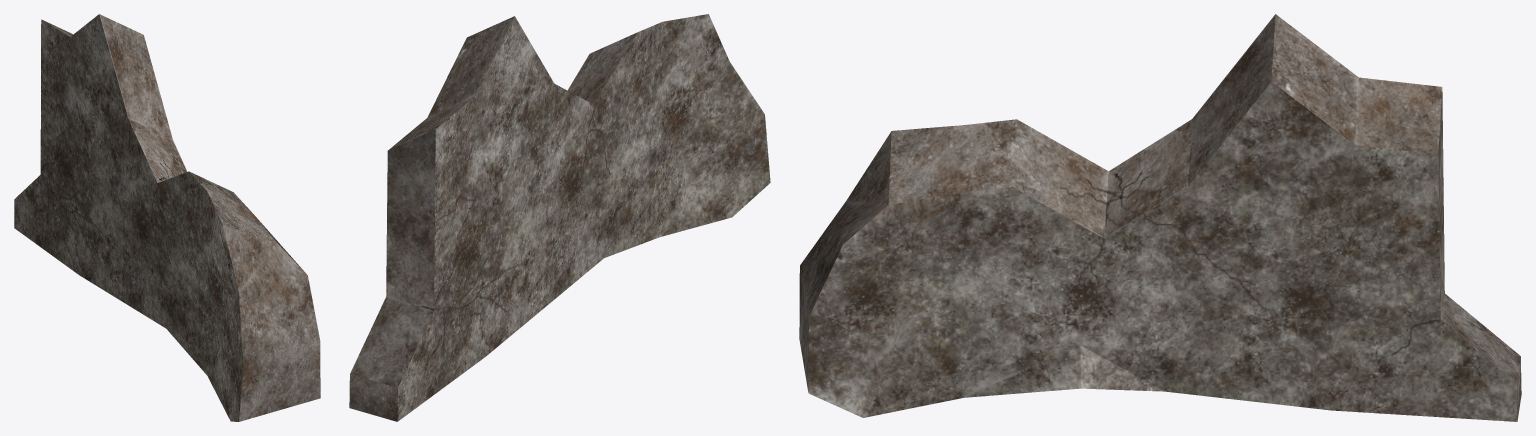
File: RuinaEdificio3.obj
3 views of the same model, side by side, from view 1: azimuth 30°, elevation 25°; view 2: azimuth 150°, elevation 25°; view 3: azimuth 270°, elevation 25° (orthographic). The views are drawn at different scales.
Visible parts, largest first — view 1: Object022; view 2: Object022; view 3: Object022.
Part boxes in pixels (left/top/right/bottom): Object022: left=14, top=14, right=320, bottom=421; Object022: left=349, top=14, right=770, bottom=421; Object022: left=799, top=14, right=1521, bottom=421.
Size of the model in its own units: 12.35 by 36.58 by 63.76.
1 material, 1 textured.
